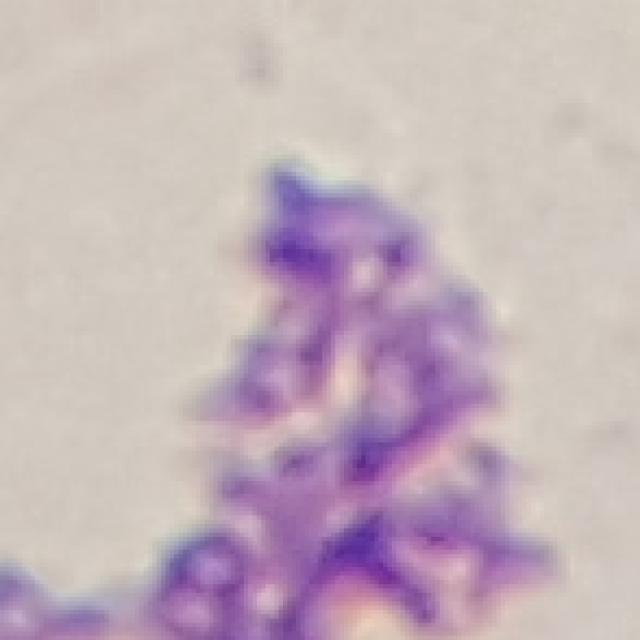non-sperm: (156, 154, 548, 639)
